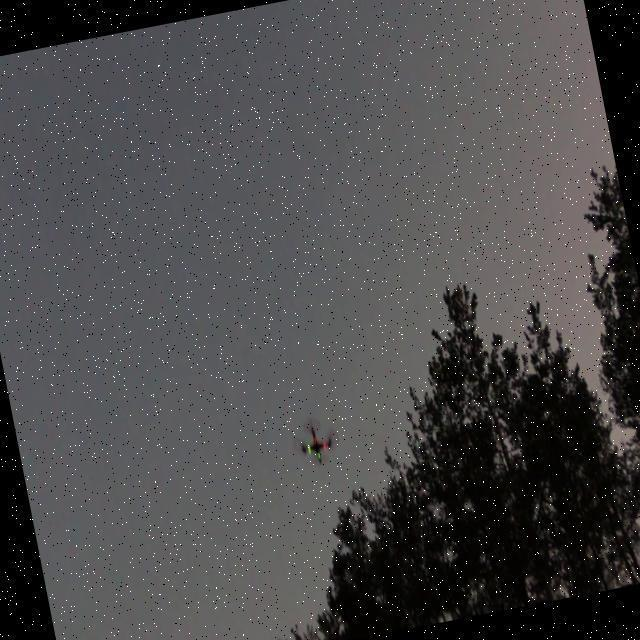Drons: (284, 412, 344, 474)
